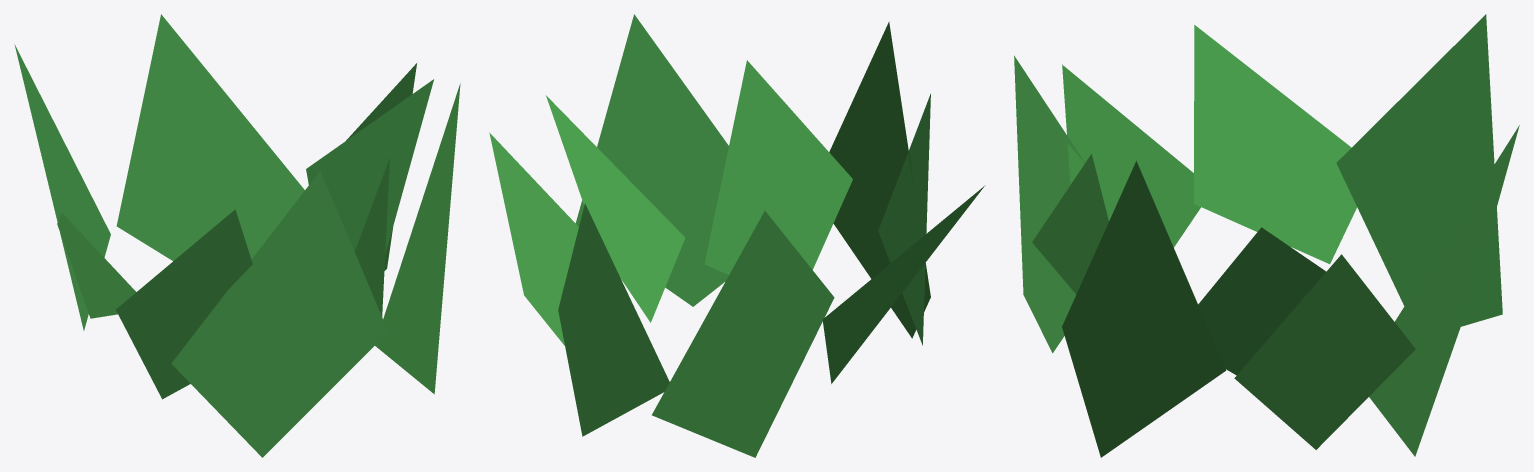
The model's file is lettuce_stage_2.glb.
3 views of the same model, side by side, from view 1: azimuth 30°, elevation 25°; view 2: azimuth 150°, elevation 25°; view 3: azimuth 270°, elevation 25° (orthographic). The views are drawn at different scales.
Parts seen in each view (by area): view 1: Plane.003, Plane.008, Plane.012, Plane.009, Plane.004, Plane.010, Plane.007, Plane.002, Plane.011; view 2: Plane.010, Plane.009, Plane.002, Plane.008, Plane.003, Plane.004, Plane.011, Plane.007, Plane.012; view 3: Plane.010, Plane.009, Plane.007, Plane.011, Plane.008, Plane.012, Plane.003, Plane.004, Plane.002.
Part boxes in pixels (x1,y1,x2,y2): Plane.003: [171, 171, 388, 457]; Plane.008: [116, 14, 304, 261]; Plane.012: [116, 209, 252, 399]; Plane.009: [375, 83, 460, 394]; Plane.004: [306, 79, 433, 253]; Plane.010: [14, 44, 110, 330]; Plane.007: [57, 213, 136, 318]; Plane.002: [355, 158, 389, 316]; Plane.011: [346, 63, 416, 270]; Plane.010: [652, 211, 834, 457]; Plane.009: [575, 14, 728, 306]; Plane.002: [704, 60, 852, 274]; Plane.008: [558, 203, 669, 436]; Plane.003: [829, 21, 930, 338]; Plane.004: [546, 95, 685, 322]; Plane.011: [489, 132, 578, 345]; Plane.007: [822, 185, 985, 383]; Plane.012: [878, 93, 930, 345]; Plane.010: [1336, 14, 1502, 326]; Plane.009: [1062, 161, 1226, 457]; Plane.007: [1194, 25, 1356, 264]; Plane.011: [1234, 254, 1415, 449]; Plane.008: [1369, 125, 1519, 456]; Plane.012: [1062, 64, 1200, 247]; Plane.003: [1014, 55, 1084, 353]; Plane.004: [1198, 227, 1326, 375]; Plane.002: [1032, 154, 1108, 294].
Size of the model in its own units: 0.8261 by 0.5716 by 0.7773.
